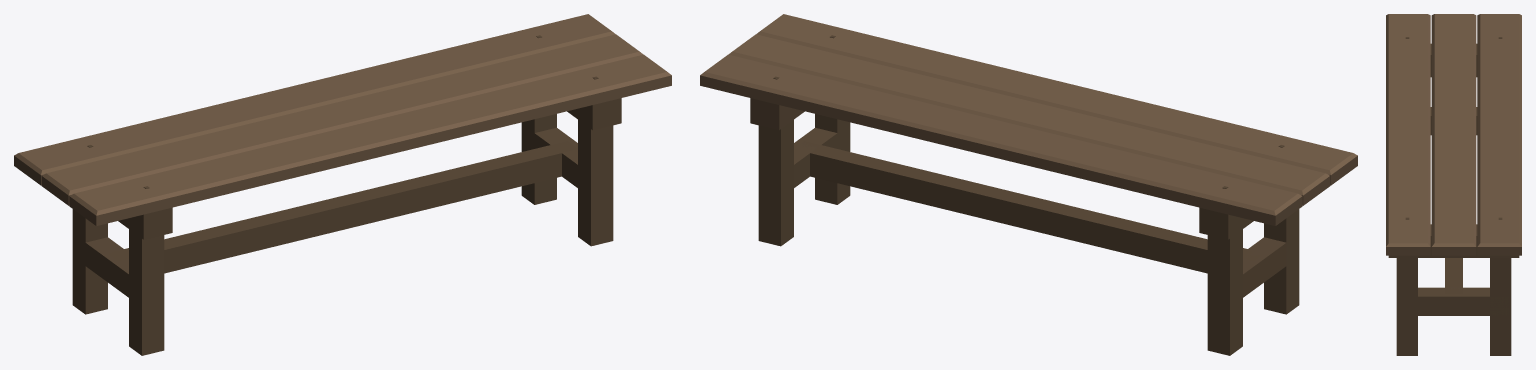
The model's file is prp_0045_v00_bench_1800x450x480_none.glb.
The picture shows the model from 3 angles, left to right: view 1: azimuth 30°, elevation 25°; view 2: azimuth 150°, elevation 25°; view 3: azimuth 270°, elevation 25°; orthographic projection. The views are drawn at different scales.
Parts seen in each view (by area): view 1: asset__detail_vertex_wood; view 2: asset__detail_vertex_wood; view 3: asset__detail_vertex_wood.
Boxes of the visible parts, left/top/right/bottom form: asset__detail_vertex_wood: left=14, top=14, right=671, bottom=355; asset__detail_vertex_wood: left=700, top=14, right=1357, bottom=355; asset__detail_vertex_wood: left=1386, top=14, right=1521, bottom=355.
Bounding box in the file's own units: 1.8 × 0.4815 × 0.446.
